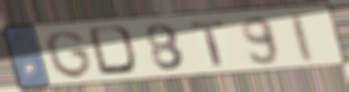8: (144, 23, 185, 72)
9: (239, 15, 283, 66)
D: (85, 23, 143, 77)
G: (43, 29, 96, 80)
I: (286, 10, 317, 64)
T: (188, 18, 226, 68)
